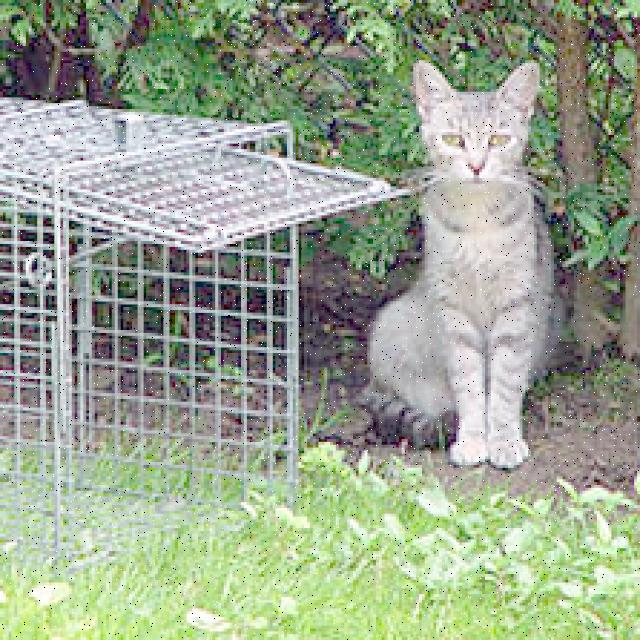cat: (365, 61, 553, 468)
